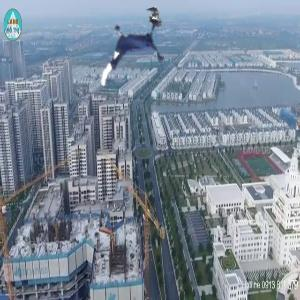drone: (93, 16, 173, 96)
